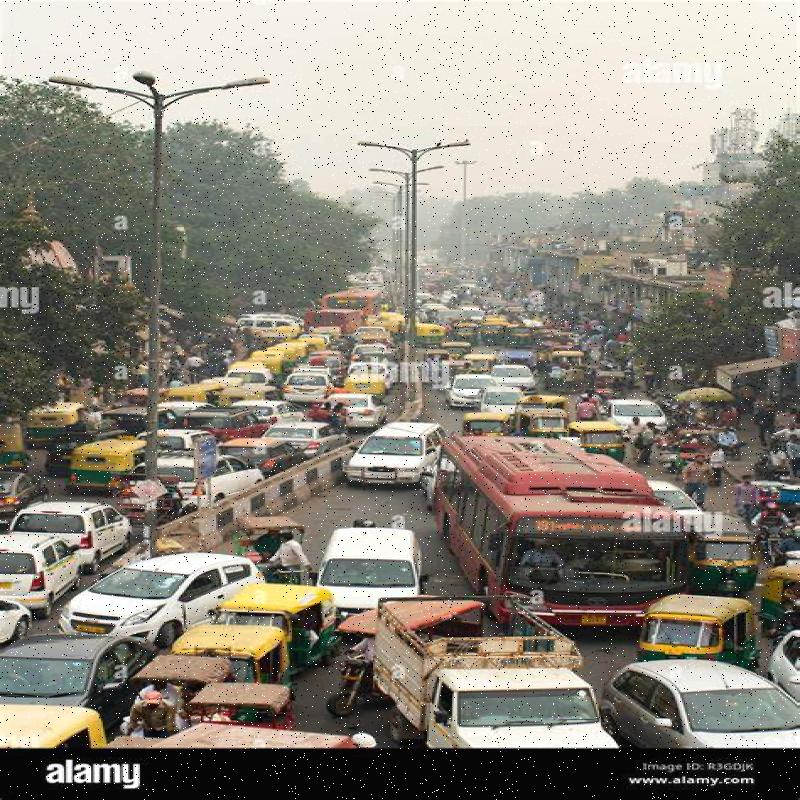auto: (635, 581, 768, 666), (193, 579, 358, 647), (165, 627, 314, 688)
bus: (423, 428, 722, 610)
car: (601, 650, 795, 753), (68, 545, 244, 635), (315, 514, 433, 630), (342, 410, 446, 492), (18, 492, 136, 560)
